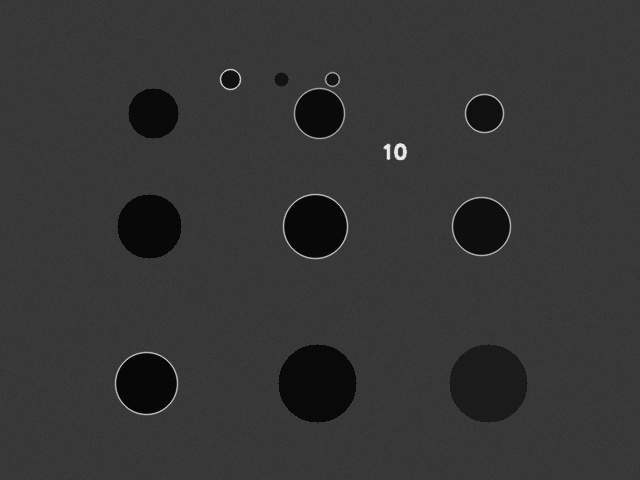hole: (278, 344, 356, 422), (449, 344, 527, 422), (117, 194, 181, 258), (283, 194, 347, 258), (115, 352, 177, 414), (452, 197, 510, 255), (128, 88, 178, 138), (294, 88, 344, 138), (465, 94, 503, 132), (220, 69, 240, 89), (274, 72, 288, 86), (325, 72, 339, 86)
